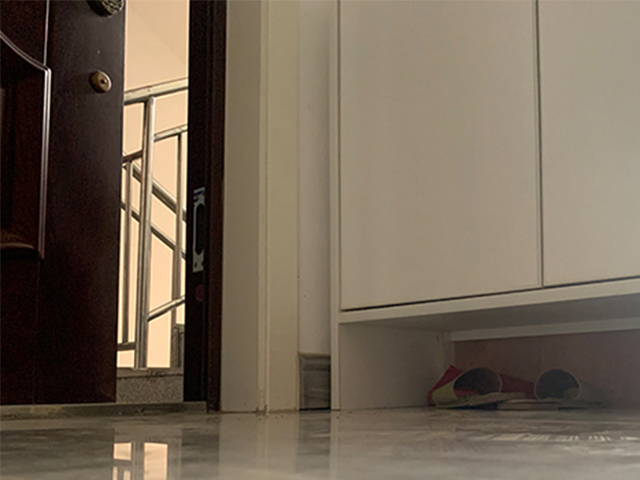cabinet: (324, 1, 640, 410)
slippers: (431, 366, 610, 411)
